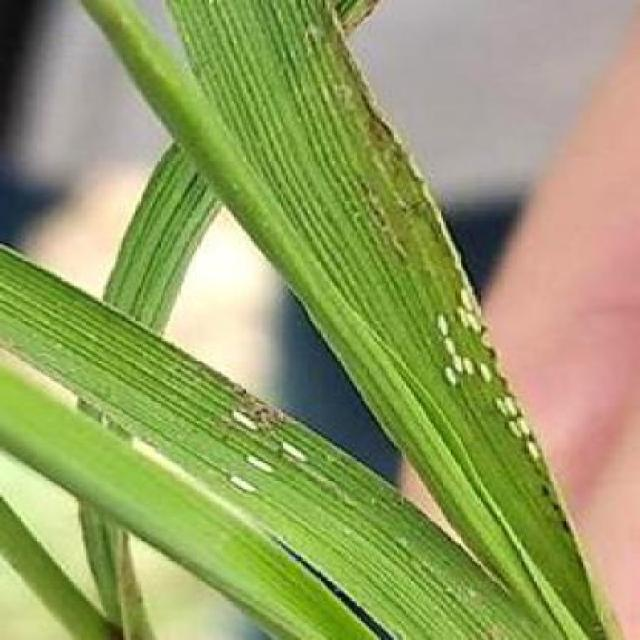whorl-maggot: (218, 398, 272, 436), (275, 437, 317, 471), (220, 470, 263, 501), (422, 316, 466, 341), (245, 453, 277, 485), (478, 358, 508, 391), (495, 395, 528, 423), (439, 365, 467, 397), (454, 285, 486, 312), (526, 442, 548, 470), (508, 418, 523, 448), (517, 416, 537, 438), (439, 334, 458, 354), (460, 352, 475, 376), (450, 357, 465, 377)
